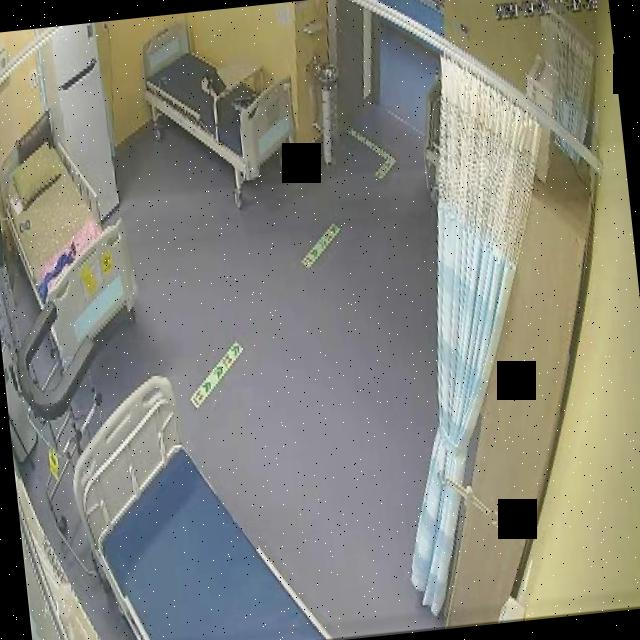bed: (59, 357, 327, 640), (0, 121, 141, 358), (140, 10, 302, 187)
